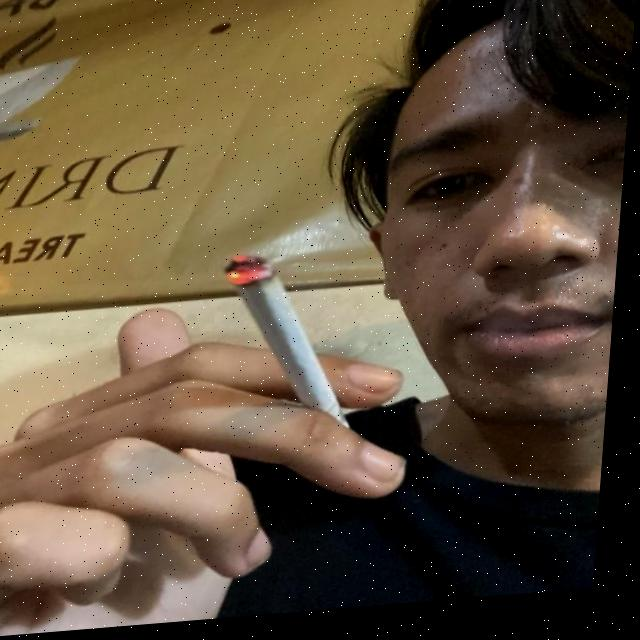cigarette: (221, 254, 368, 443)
